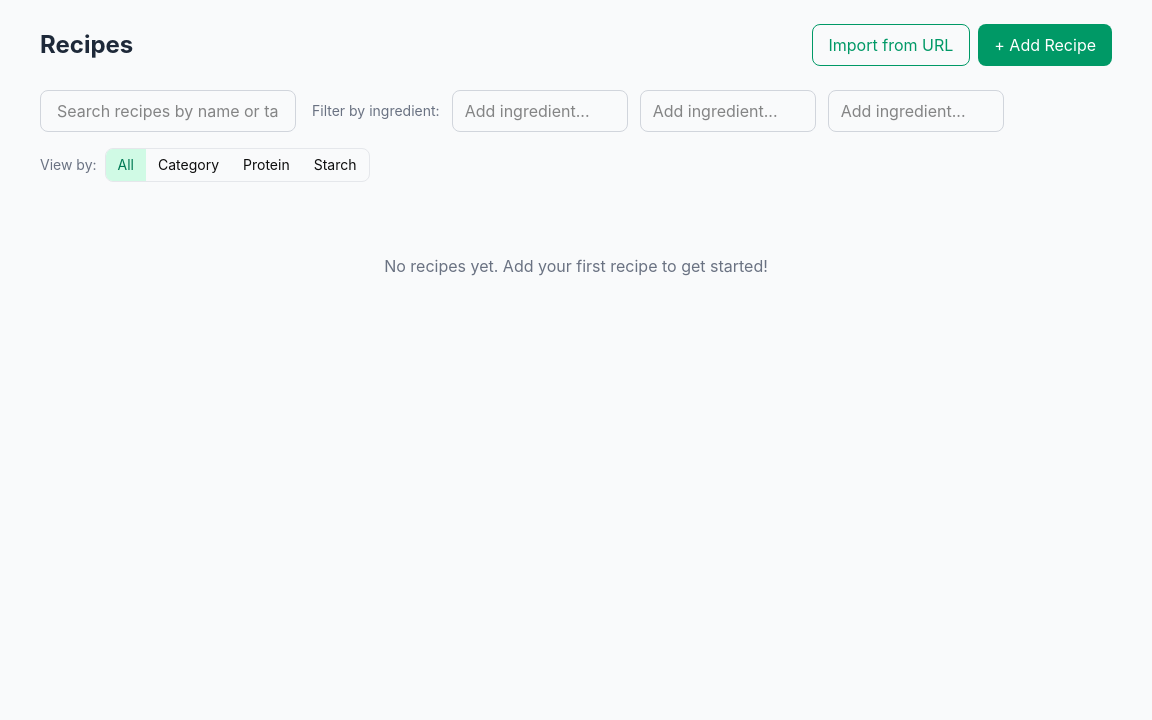
Test case: Recipes › Modal Navigation › Import from URL button opens import modal
Click the button "Import from URL".
click(891, 45)  # box top-left (812, 24), bottom-right (970, 66)
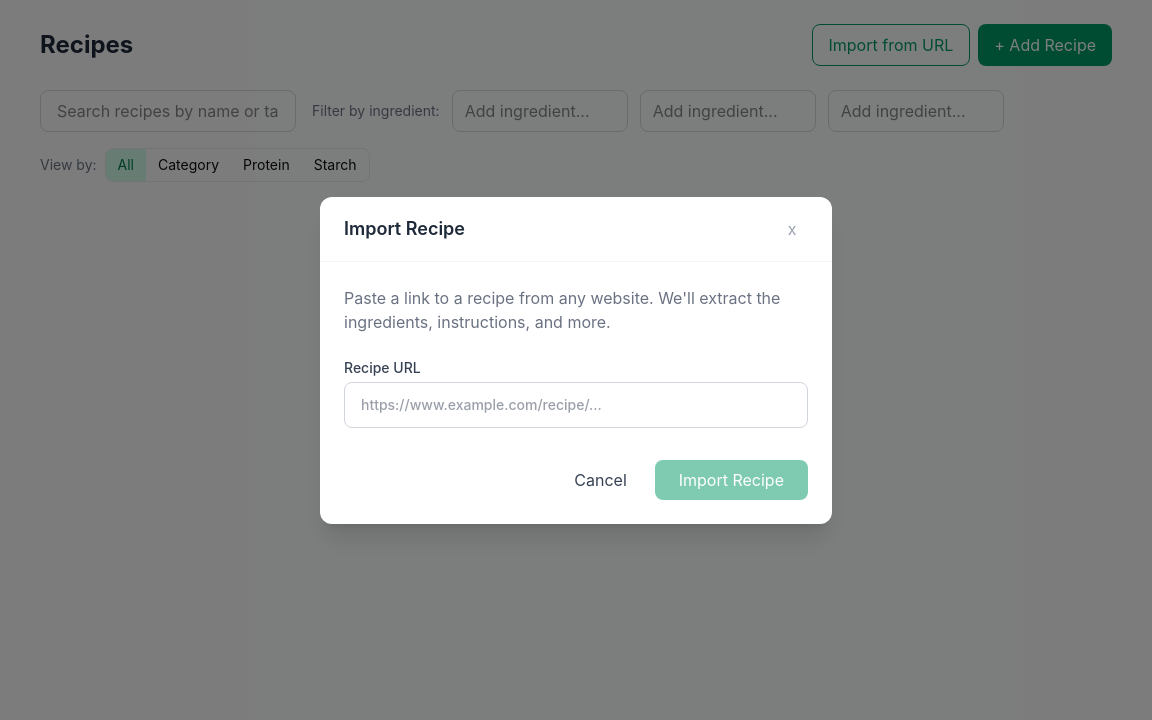
Now the dialog is shown
Now the field with placeholder "https://www.example.com/recipe/..." is shown, box top-left (344, 382), bottom-right (808, 428)
